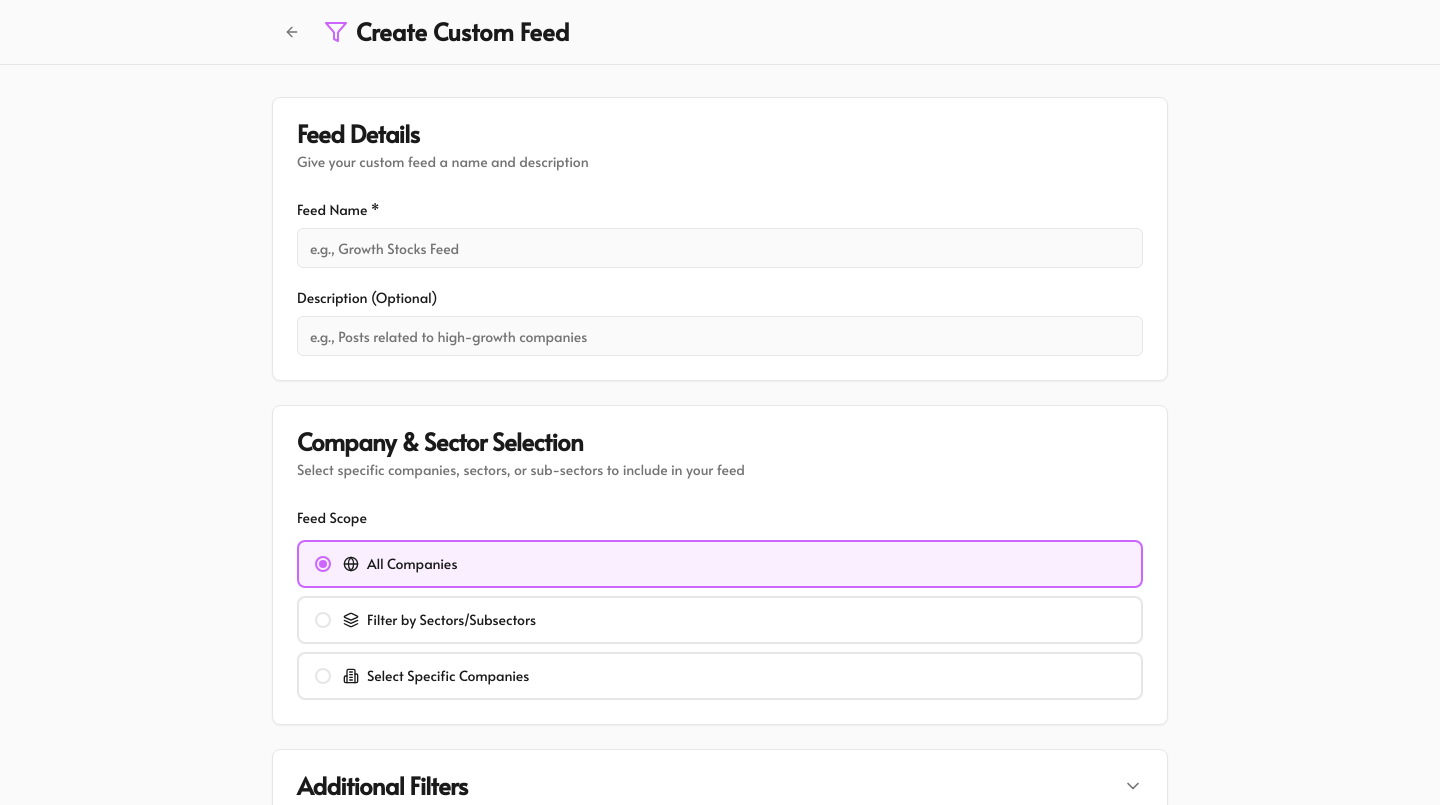
Filters Page › should fetch and display filter configurations
Click the text "Additional Filters": (382,786) [297,774,468,798]
(page scrolled)
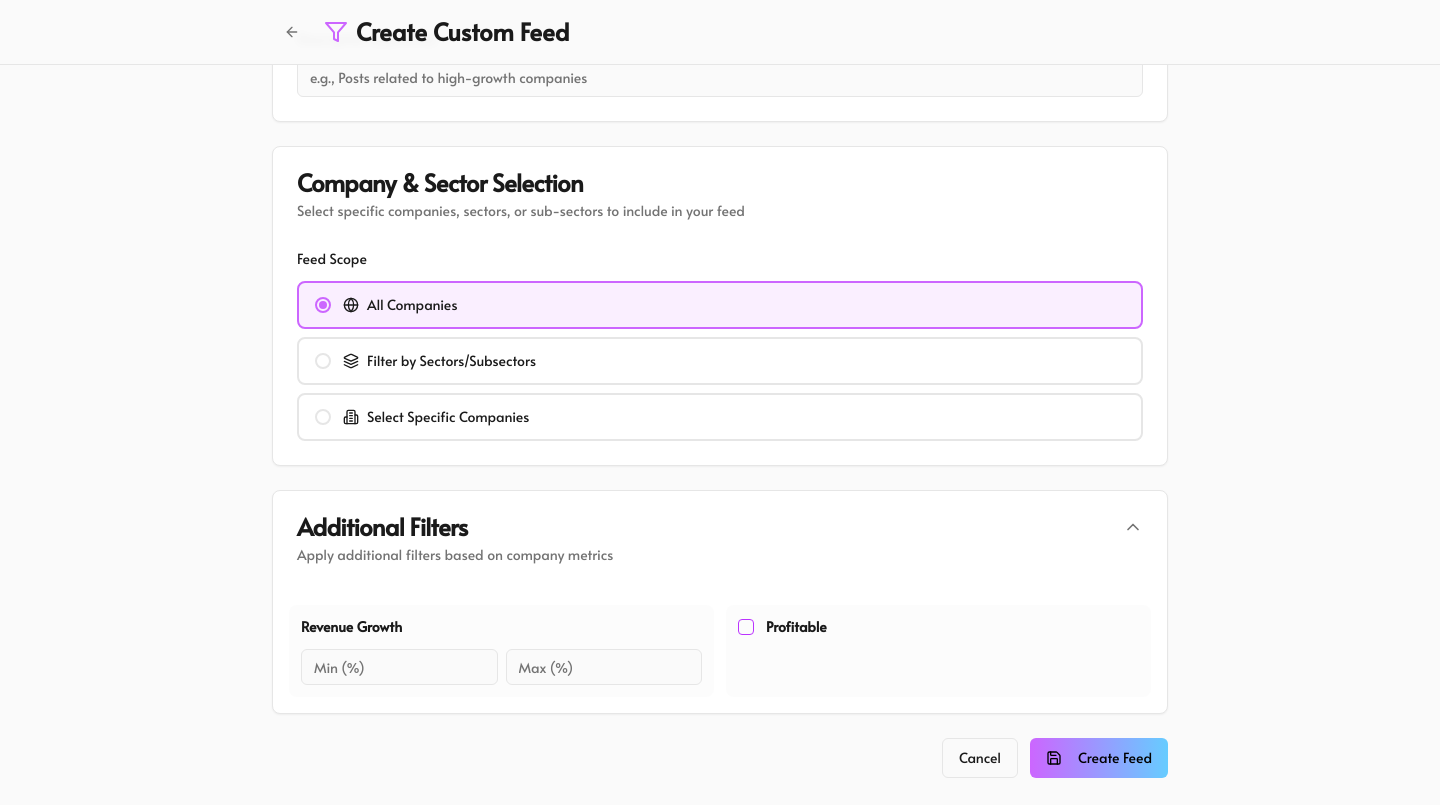
Expected: the text "Revenue Growth" is shown, [301,617,402,636]
Expected: the text "Profitable" is shown, [766,617,827,637]
